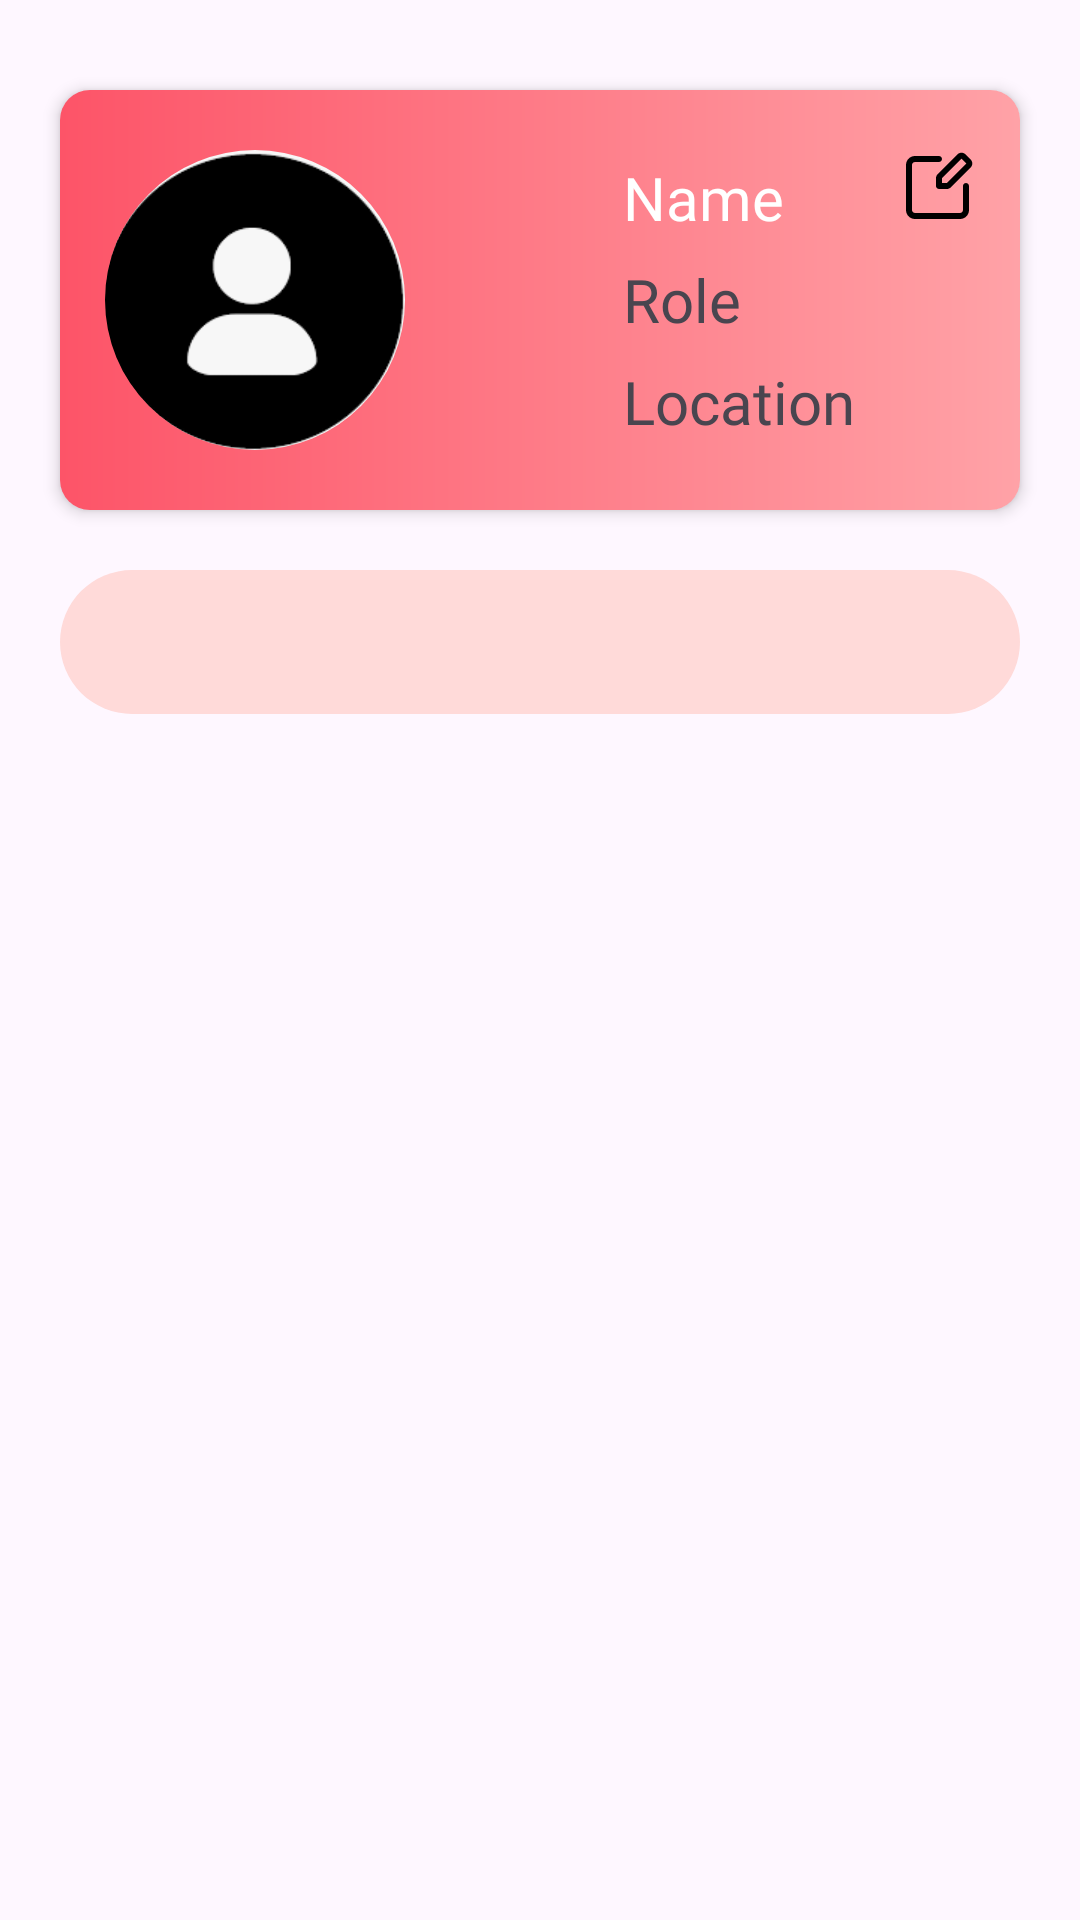

Icons on this 1080w x 1920h Android screen, each with the point to tap as [x,y]:
edit: [939,185]
profile pic: [255,300]
